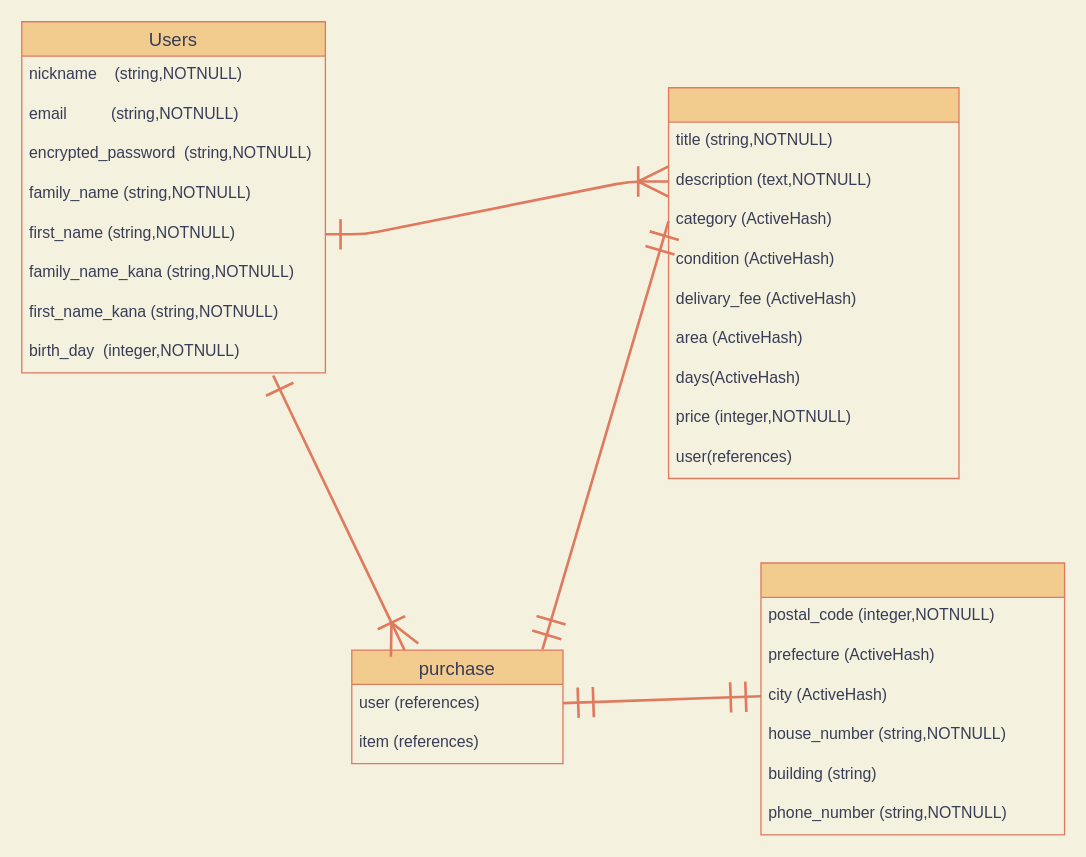
The diagram is 1086 pixels wide and 857 high, and some of its shapes have lost their labels. Here are the shapes that lost their labels. From the top down, the box of each, then its label:
(667, 86, 959, 478): Items
(760, 562, 1065, 835): address
